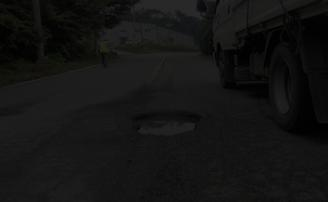pothole: (124, 106, 213, 142)
